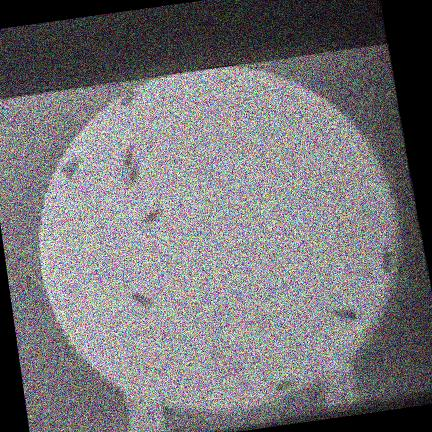fly: (123, 145, 139, 187), (60, 157, 81, 180), (142, 206, 163, 224), (128, 291, 153, 305), (382, 246, 395, 271), (123, 145, 135, 170), (333, 307, 360, 318), (119, 88, 136, 105), (129, 161, 139, 187), (274, 379, 294, 390)
